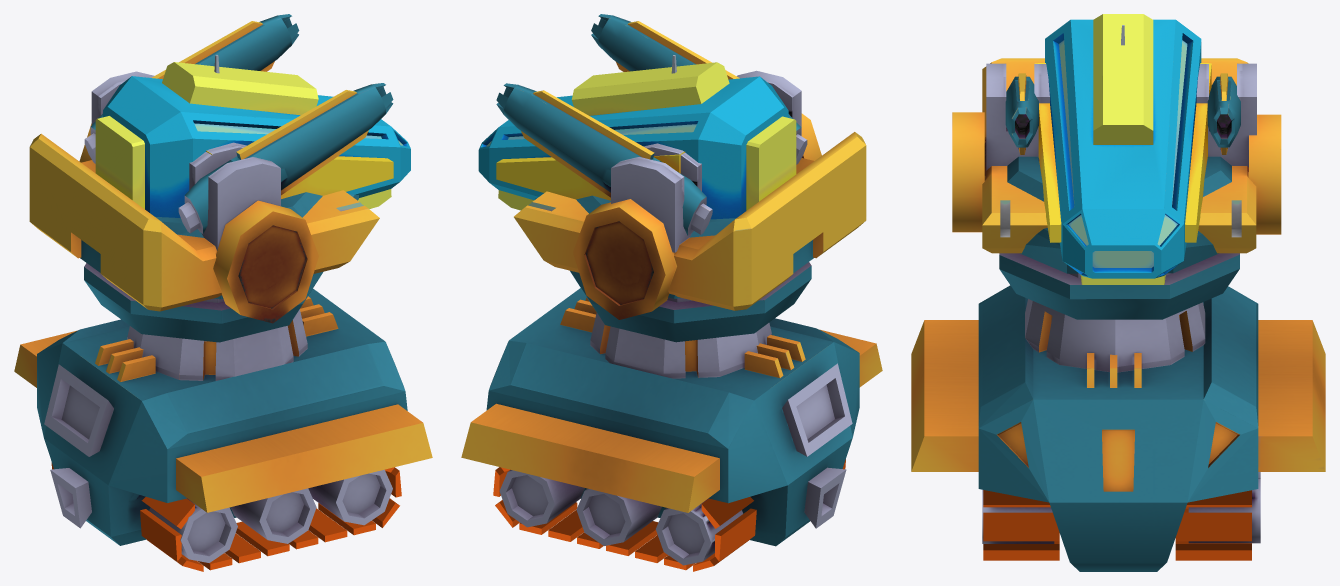
File: Player_Idle_1_Upgrade17.obj
3 renders of one model, left to right at view 1: azimuth 30°, elevation 25°; view 2: azimuth 150°, elevation 25°; view 3: azimuth 270°, elevation 25°, orthographic. The views are drawn at different scales.
Parts seen in each view (by area): view 1: Object008, Object014, Box009, Box017; view 2: Object008, Object014, Box009, Box016; view 3: Object008, Box016, Box017, Object014, Box009.
Boxes of the visible parts, bbox=[...] form: Object008: bbox=[14, 62, 432, 545]; Object014: bbox=[84, 14, 393, 234]; Box009: bbox=[149, 469, 392, 562]; Box017: bbox=[140, 467, 401, 571]; Object008: bbox=[461, 62, 882, 546]; Object014: bbox=[496, 14, 807, 235]; Box009: bbox=[499, 470, 743, 565]; Box016: bbox=[493, 467, 756, 571]; Object008: bbox=[911, 14, 1325, 571]; Box016: bbox=[1175, 490, 1251, 560]; Box017: bbox=[983, 490, 1059, 560]; Object014: bbox=[1005, 73, 1240, 154]; Box009: bbox=[982, 472, 1260, 543].
Bounding box in the file's own units: 65.77 × 85.01 × 66.14.
Materials: 4 (2 with a texture image).
